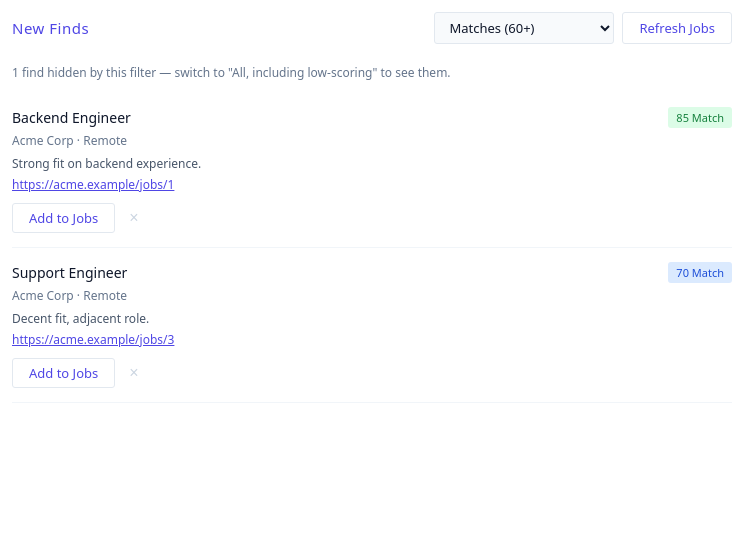
Scenario: JobFinds › hides low-scoring finds by default and reveals them via the "all" filter
The width and height of the screenshot is (749, 546).
Expected: the text "Backend Engineer" is shown, [12,108,131,127]
Expected: the text "Support Engineer" is shown, [12,263,127,282]
Select "All, including low-scoring" in the dropdown at (524, 28), box [434,12,614,44]
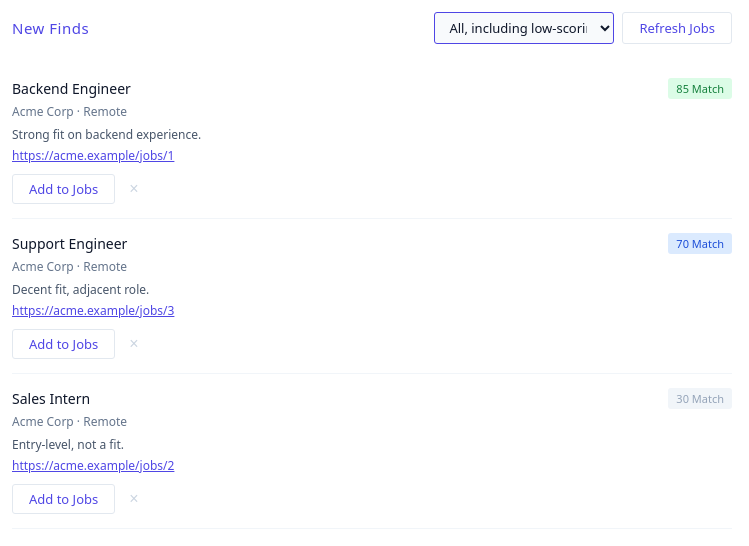
Expected: the text "Sales Intern" is shown, [12,389,90,408]
